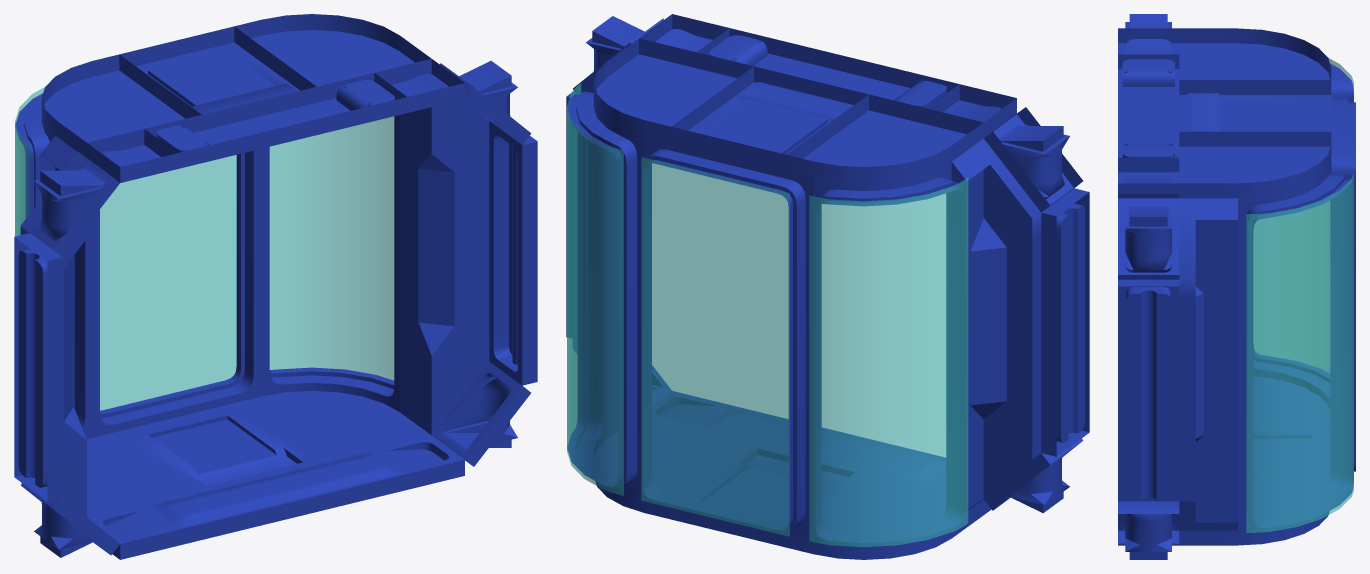
The model's file is CBig_Wall_End_WinBig_A.FBX.
3 views of the same model, side by side, from view 1: azimuth 30°, elevation 25°; view 2: azimuth 150°, elevation 25°; view 3: azimuth 270°, elevation 25° (orthographic). The views are drawn at different scales.
Parts seen in each view (by area): view 1: CBig_Wall_End_WinBig_A; view 2: CBig_Wall_End_WinBig_A; view 3: CBig_Wall_End_WinBig_A.
Part boxes in pixels (bbox=[...]): CBig_Wall_End_WinBig_A: bbox=[14, 14, 537, 559]; CBig_Wall_End_WinBig_A: bbox=[566, 14, 1089, 559]; CBig_Wall_End_WinBig_A: bbox=[1118, 14, 1355, 559].
Size of the model in its own units: 640 by 490 by 292.
